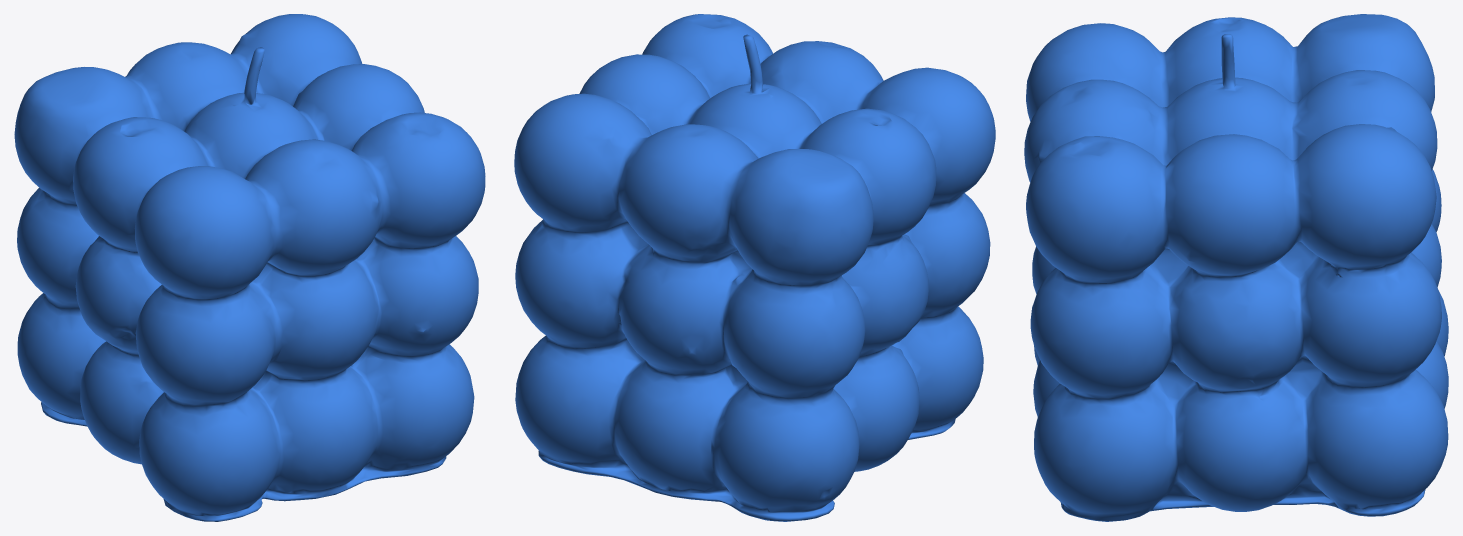
The model's file is vela5.glb.
The picture shows the model from 3 angles, left to right: view 1: azimuth 30°, elevation 25°; view 2: azimuth 150°, elevation 25°; view 3: azimuth 270°, elevation 25°; orthographic projection. The views are drawn at different scales.
Parts seen in each view (by area): view 1: bolitas; view 2: bolitas; view 3: bolitas.
Part boxes in pixels (x1,y1,x2,y2): bolitas: (14, 14, 485, 521); bolitas: (514, 14, 995, 521); bolitas: (1024, 14, 1448, 521).
Bounding box in the file's own units: 3.1 × 3.49 × 3.15.
